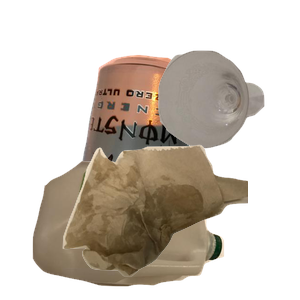glass: (156, 48, 300, 189)
metal: (73, 52, 263, 232)
plastic: (30, 159, 247, 300)
trash: (60, 142, 300, 300)
